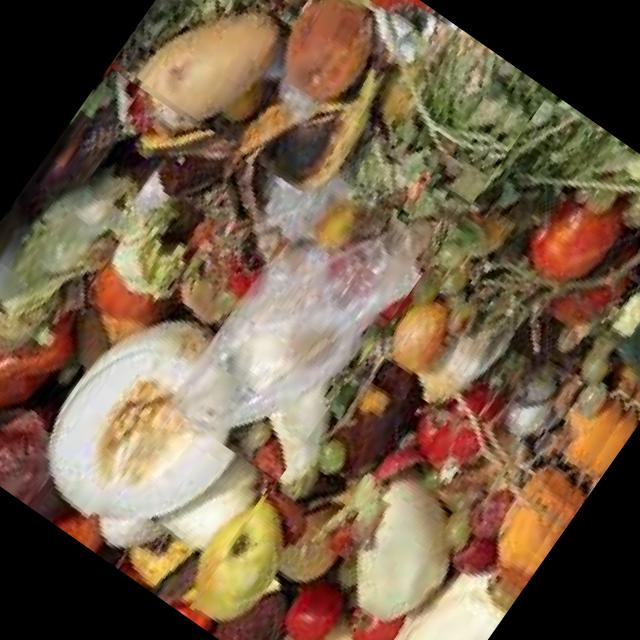Organic: (188, 90, 640, 640), (0, 64, 305, 536), (112, 0, 547, 274), (70, 403, 272, 612)
